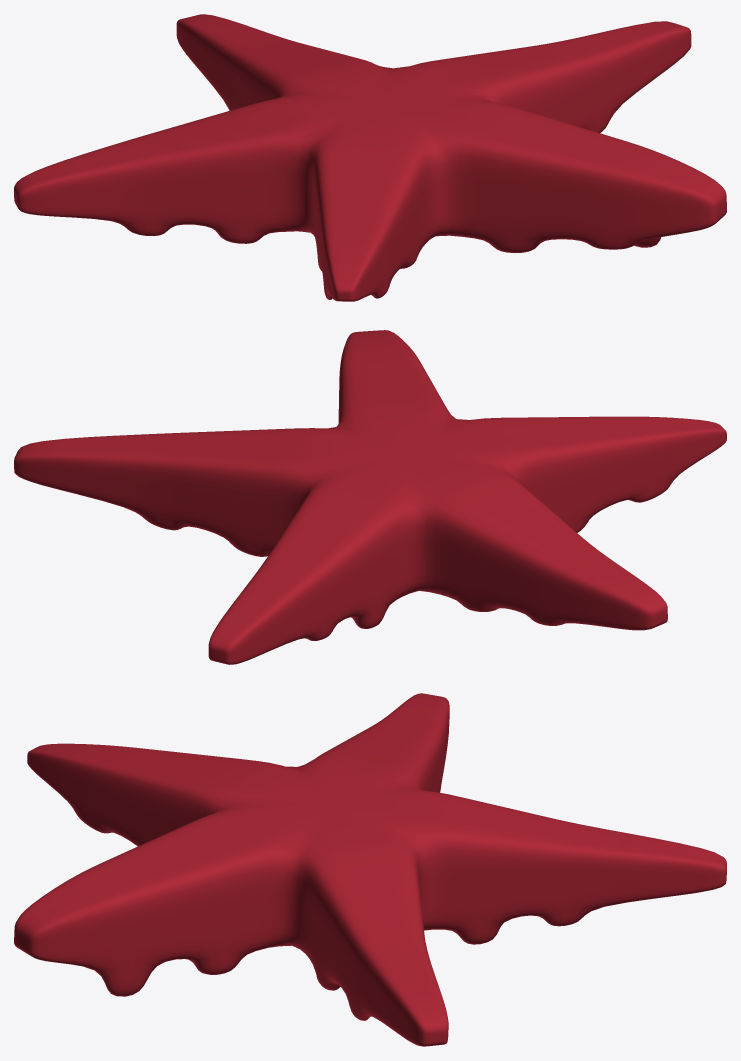
The model's file is starfish-final.fbx.
The picture shows the model from 3 angles, top to bottom: view 1: azimuth 30°, elevation 25°; view 2: azimuth 150°, elevation 25°; view 3: azimuth 270°, elevation 25°; orthographic projection. The views are drawn at different scales.
Visible parts, largest first — view 1: Cylinder; view 2: Cylinder; view 3: Cylinder.
Part boxes in pixels (x1,y1,x2,y2): Cylinder: (14,14,726,301); Cylinder: (14,330,726,664); Cylinder: (14,693,726,1046).
Bounding box in the file's own units: 732 × 127 × 660.
